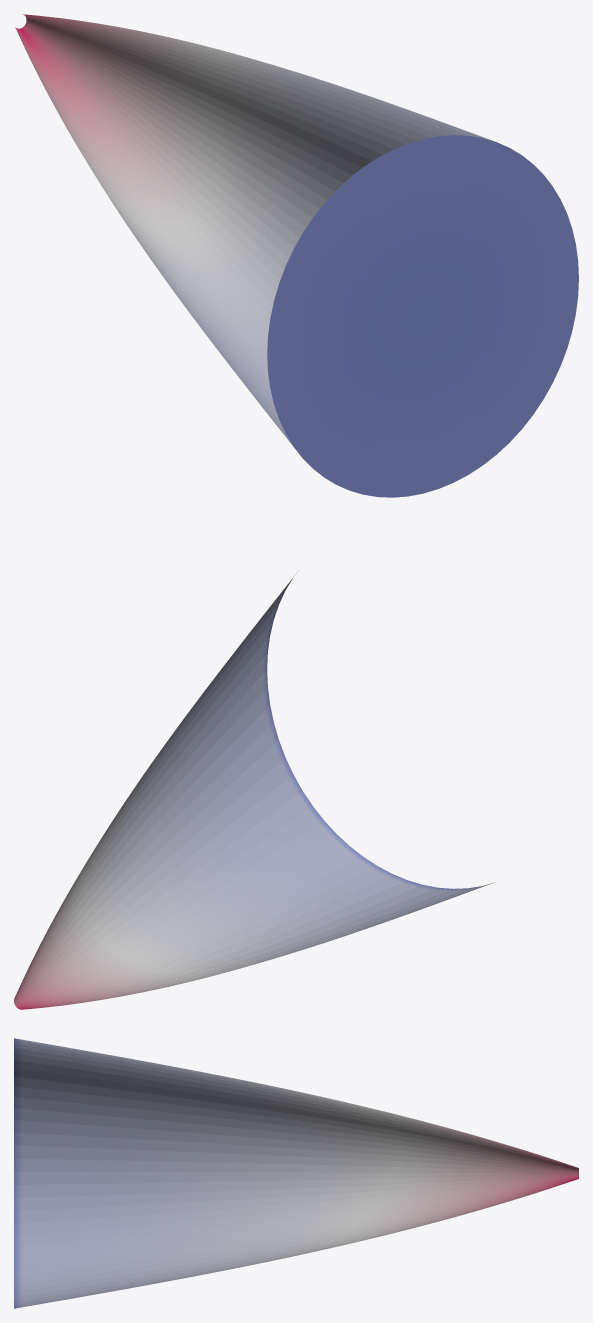
The model's file is frame_006.glb.
3 renders of one model, top to bottom at view 1: azimuth 30°, elevation 25°; view 2: azimuth 150°, elevation 25°; view 3: azimuth 270°, elevation 25°, orthographic. The views are drawn at different scales.
Parts seen in each view (by area): view 1: world; view 2: world; view 3: world.
Boxes of the visible parts, x1,y1,x2,y2 form: world: (15,14,578,497); world: (14,573,494,1009); world: (14,1038,578,1308).
Bounding box in the file's own units: 0.4468 × 0.4856 × 1.
